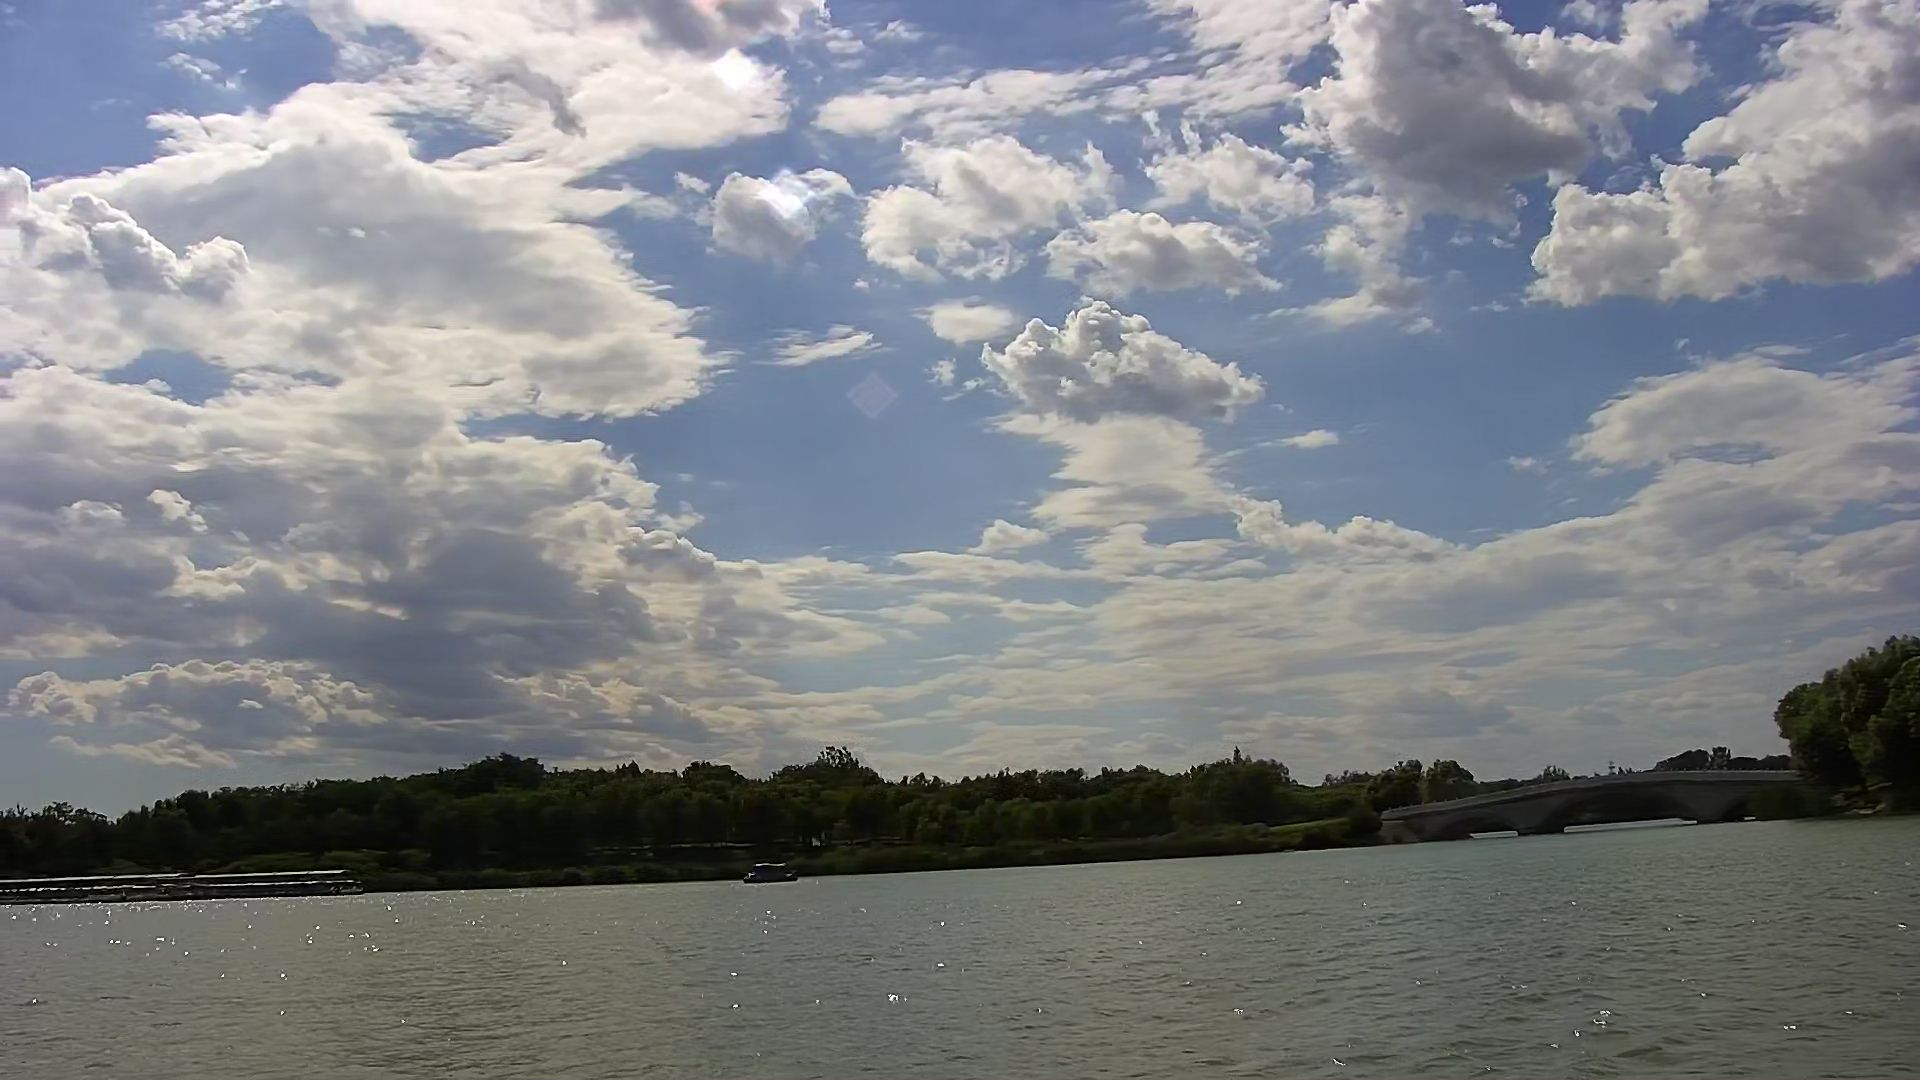boat: (746, 852, 799, 886)
bridge: (1391, 766, 1807, 832)
harbor: (4, 868, 363, 905)
